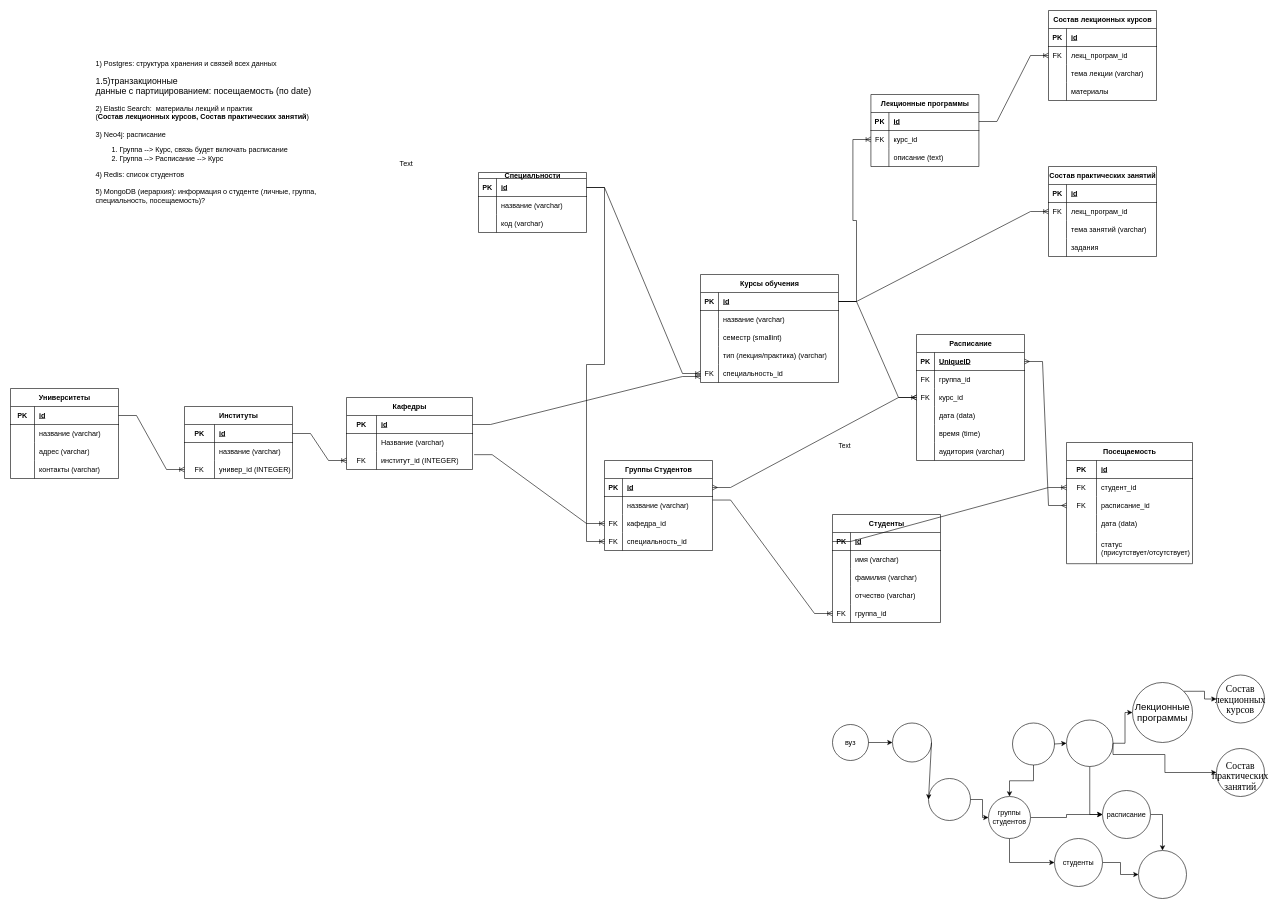
Image size: 1279x909. Some labels were removed from this diagram. The centre of each missing label's shape, as x and y in pixels:
институт: (912,742)
кафедра: (949,799)
курс обучения: (1089,742)
посещение: (1162,874)
специальность: (1033,743)
